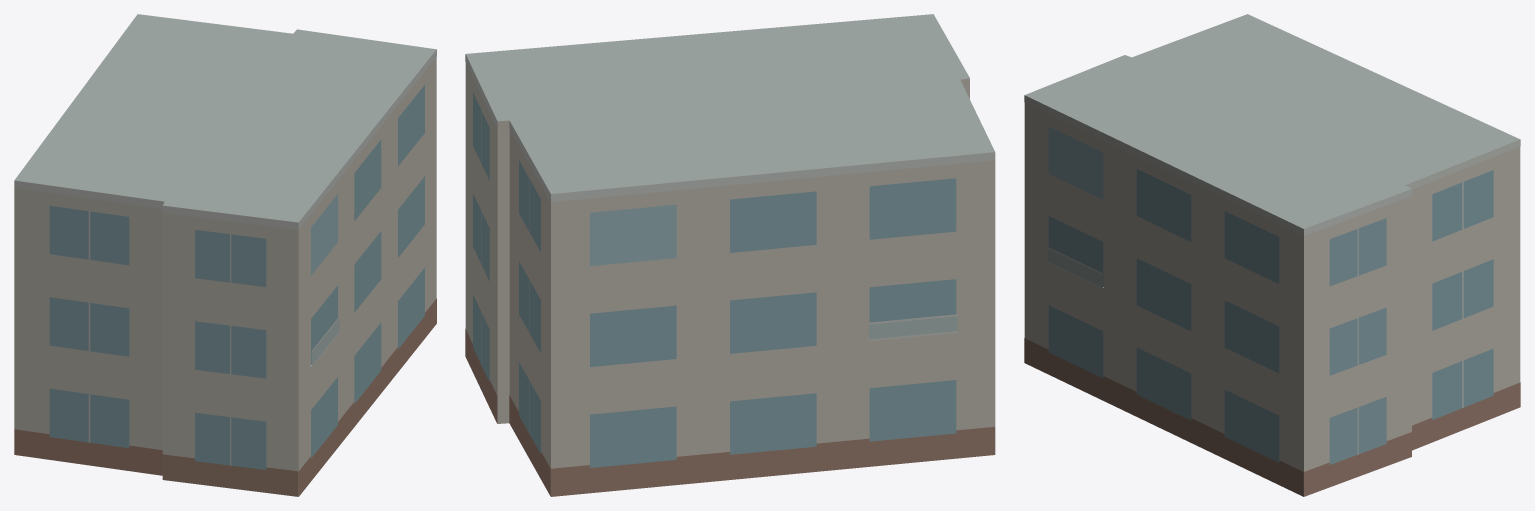
File: survey-upis-32656777.glb
3 views of the same model, side by side, from view 1: azimuth 30°, elevation 25°; view 2: azimuth 150°, elevation 25°; view 3: azimuth 270°, elevation 25° (orthographic). The views are drawn at different scales.
Parts seen in each view (by area): view 1: survey-upis-32656777.tmp; view 2: survey-upis-32656777.tmp; view 3: survey-upis-32656777.tmp.
Boxes of the visible parts, box(x1,y1,x2,y2) form: survey-upis-32656777.tmp: box(14, 14, 436, 496); survey-upis-32656777.tmp: box(465, 14, 995, 496); survey-upis-32656777.tmp: box(1024, 14, 1520, 496).
Size of the model in its own units: 15.76 by 9.15 by 15.36.
